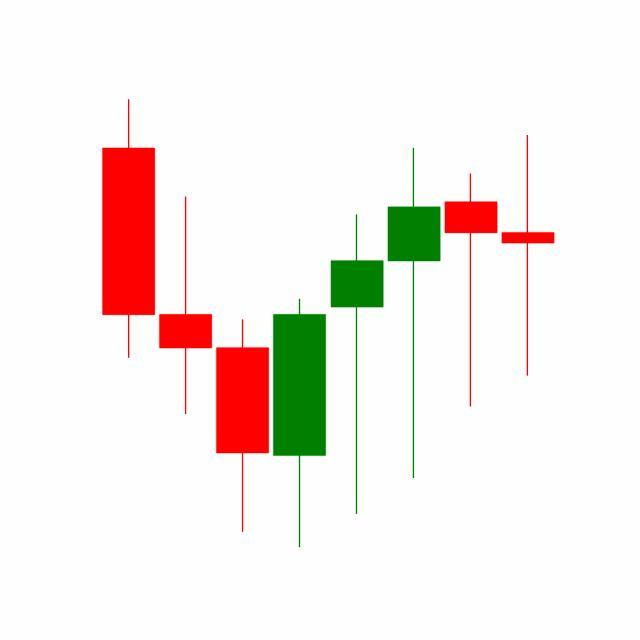Hikkake Pattern: (270, 130, 555, 548)
